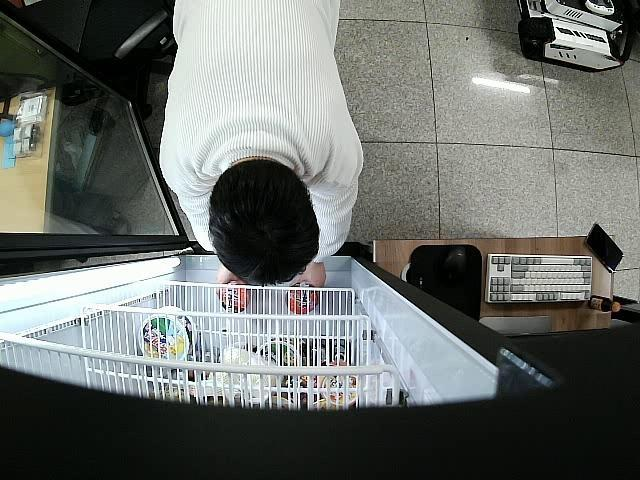02_shinRamen_S: (218, 282, 254, 314), (285, 284, 318, 314)
